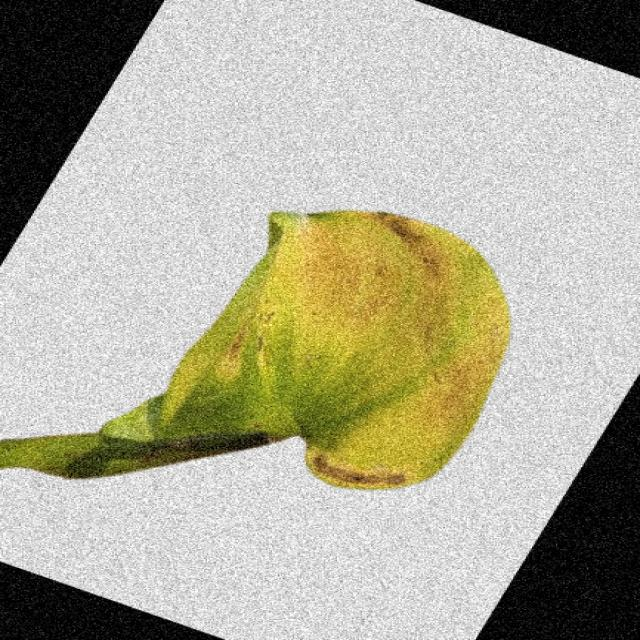daun berpenyakit kuning: (0, 212, 508, 489)
